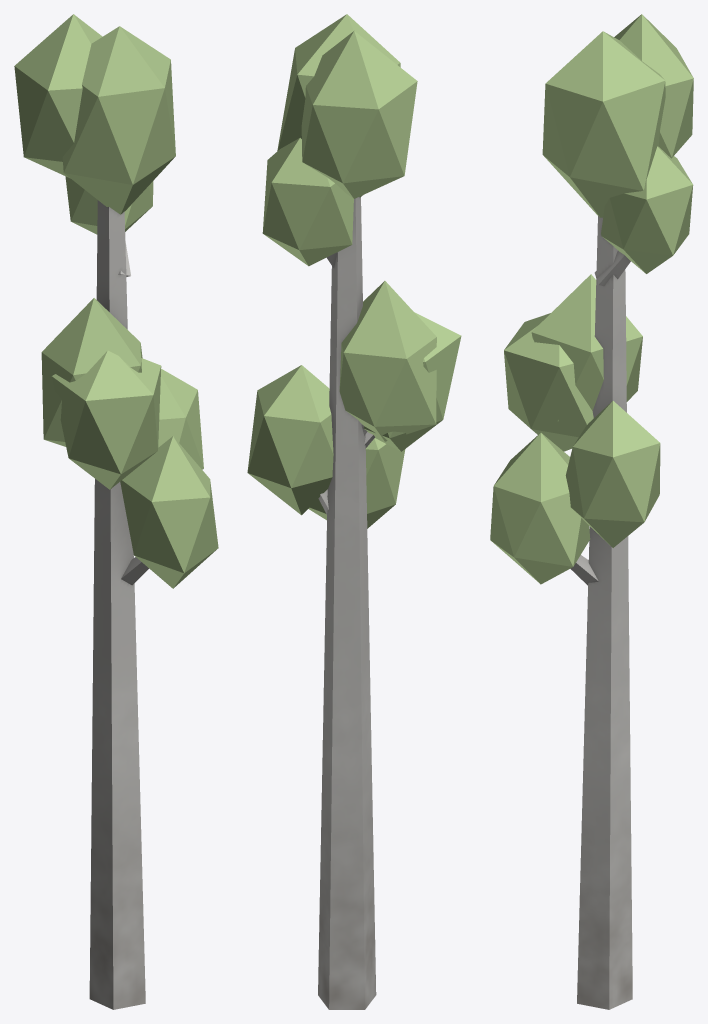
File: arv_betula_3.glb
3 views of the same model, side by side, from view 1: azimuth 30°, elevation 25°; view 2: azimuth 150°, elevation 25°; view 3: azimuth 270°, elevation 25° (orthographic).
Visible parts, largest first — view 1: arv_betula_3; view 2: arv_betula_3; view 3: arv_betula_3.
Boxes of the visible parts, <box> form: arv_betula_3: <box>14,14,218,1009</box>; arv_betula_3: <box>247,14,461,1009</box>; arv_betula_3: <box>490,14,693,1009</box>.
Bounding box in the file's own units: 0.411 × 2.32 × 0.4406.
Materials: 2 (1 with a texture image).
